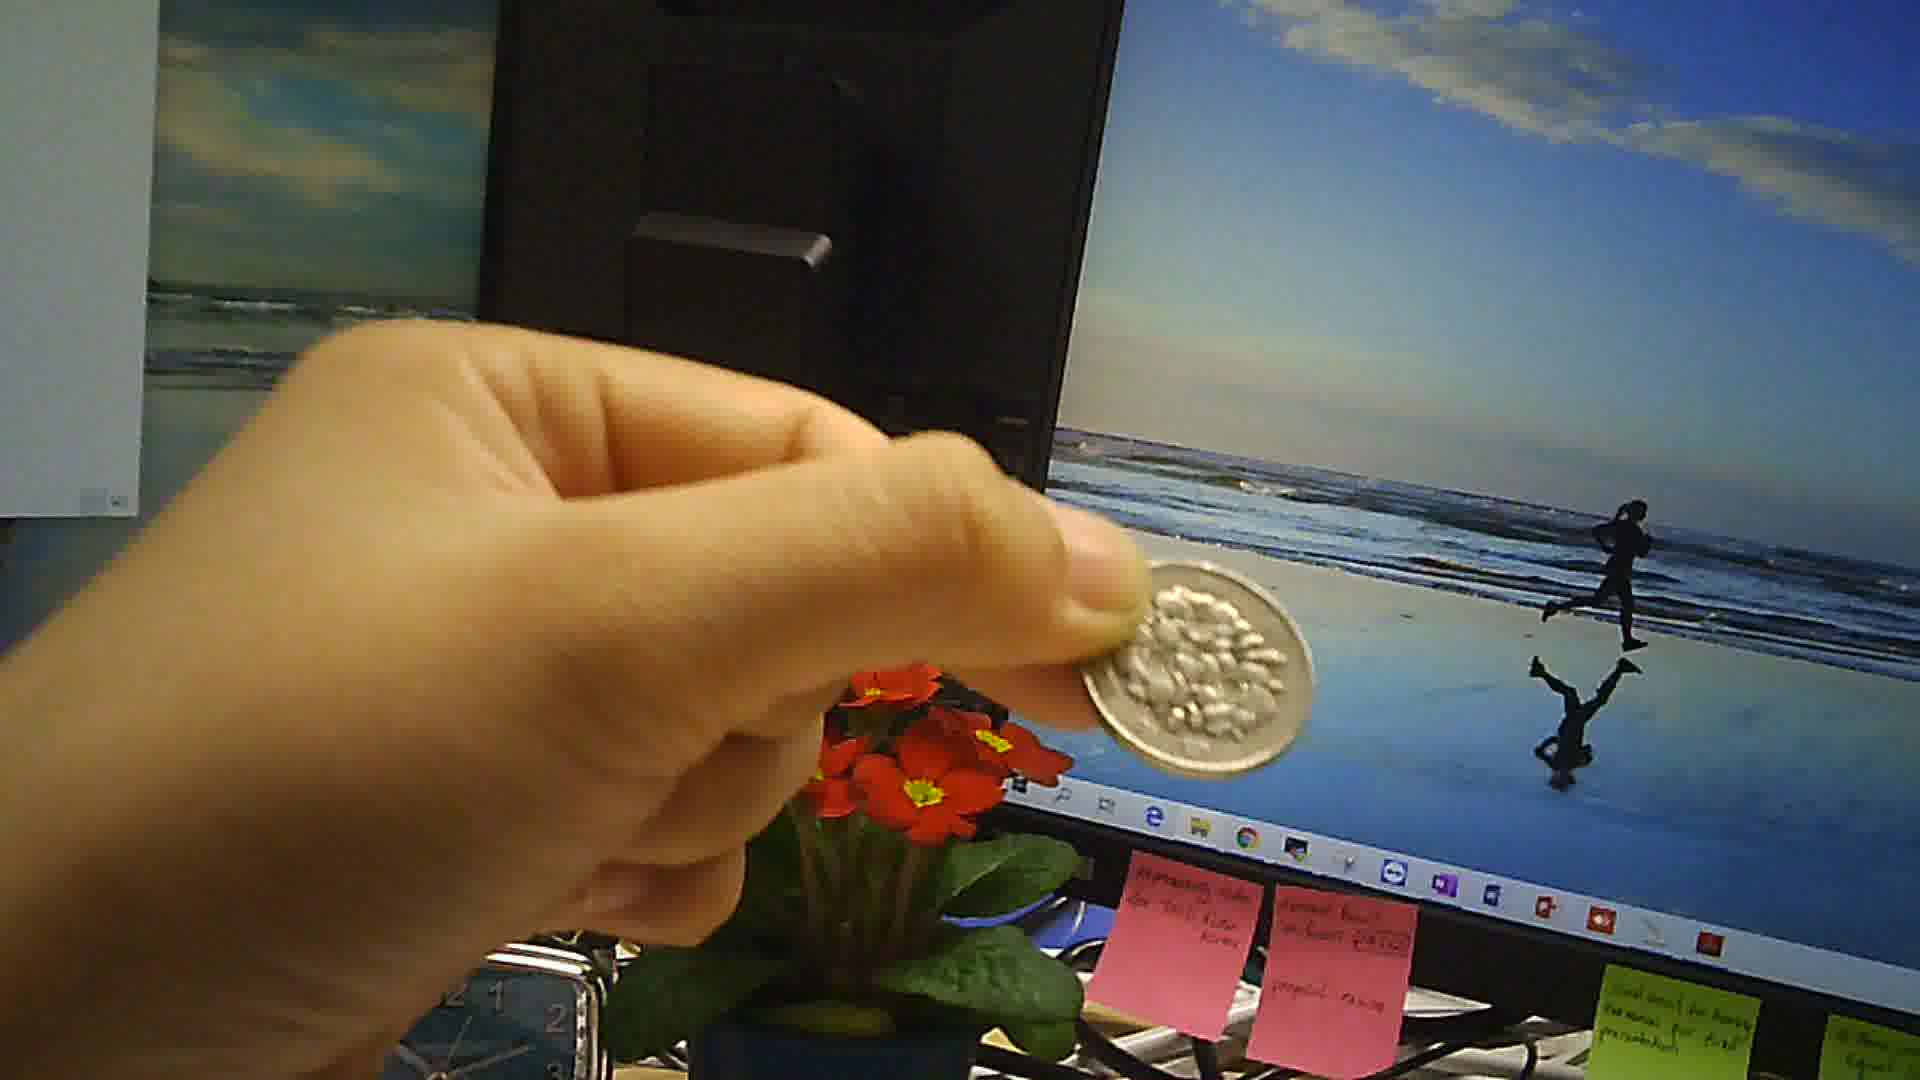100 Yen: (1075, 551, 1336, 785)
